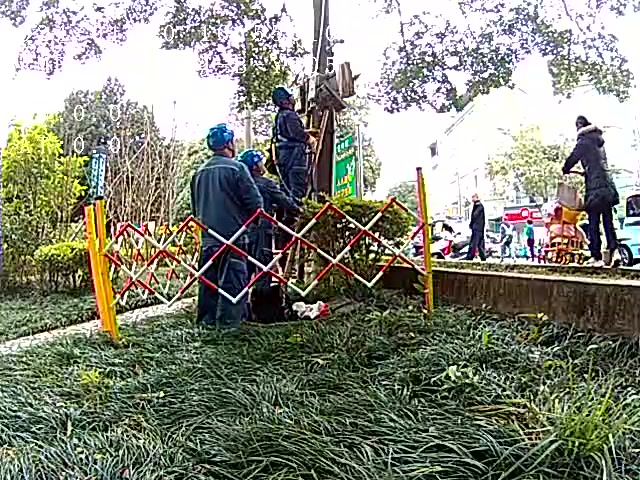halt: (209, 127, 239, 158), (243, 153, 269, 178), (275, 90, 298, 111)
unhalt: (577, 116, 593, 131), (473, 195, 483, 205)
